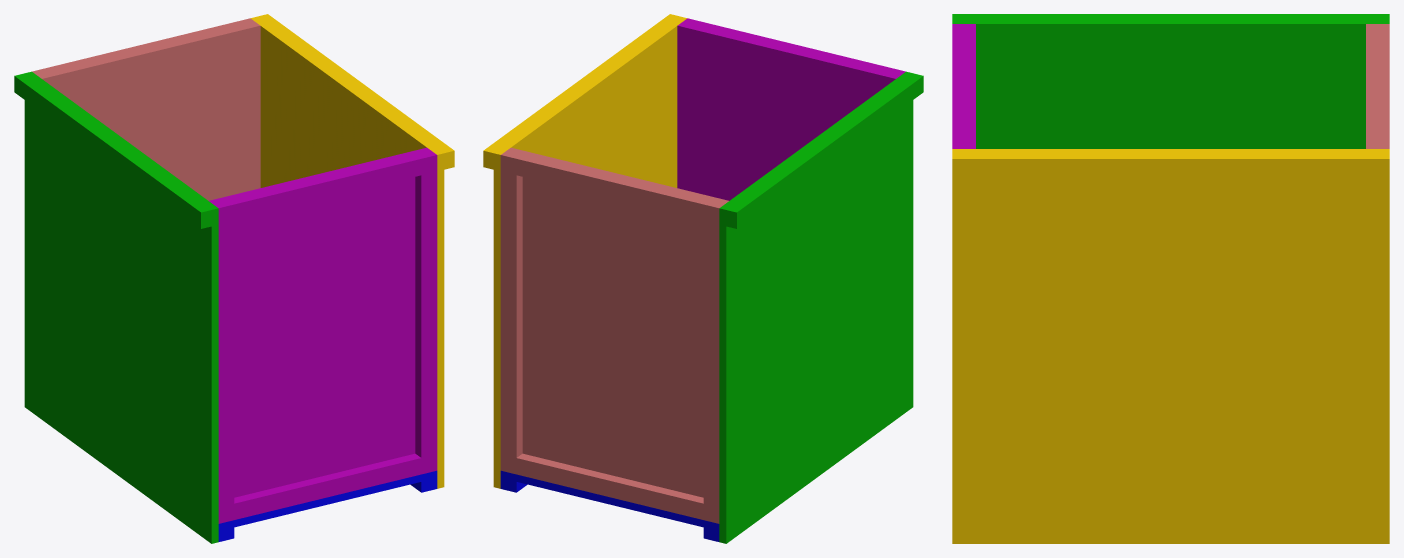
File: result.glb
3 views of the same model, side by side, from view 1: azimuth 30°, elevation 25°; view 2: azimuth 150°, elevation 25°; view 3: azimuth 270°, elevation 25° (orthographic). The views are drawn at different scales.
Visible parts, largest first — view 1: c7c51beb-bb19-4a8b-8a19-5e7543e07f08__Box_6, 0182c5ac-4b3b-49a0-9fc3-897172586b34__Box_3, 3abac683-bb2a-4d7c-9a15-d0d0a06646f1__undefined, b1e6297b-e7c0-4325-936a-9a02f71ed40f__undefined, b562b8de-653b-44a5-a18d-72877206f7dd__undefined, b8709581-1edd-4548-98f8-2fc6ff73d1a8__Box_4, cfb1b3d3-5807-45af-8db8-994b17367c4c__Box_7, 9b0788de-2b6d-4323-b09f-291f59e4da85__undefined, e6c07497-e2f5-4c88-ac0f-7a44c3719279__Box_5, 6d172d57-87cb-4e6f-9ae4-bf5996953d62__undefined, f3b661d5-2d97-45d6-a091-397c79c1c997__Box, 2fecdb35-be78-4228-a012-a9fa005ccd25__undefined; view 2: c7c51beb-bb19-4a8b-8a19-5e7543e07f08__Box_6, 3abac683-bb2a-4d7c-9a15-d0d0a06646f1__undefined, 0182c5ac-4b3b-49a0-9fc3-897172586b34__Box_3, b1e6297b-e7c0-4325-936a-9a02f71ed40f__undefined, c8940e5e-65a2-4fff-83ae-01cc5dae1033__undefined, 5195c63c-219f-4998-a25b-39bb8c61c99f__undefined, cfb1b3d3-5807-45af-8db8-994b17367c4c__Box_7, 2fecdb35-be78-4228-a012-a9fa005ccd25__undefined, b474aa49-ceae-47df-8a9a-69f96dbda966__undefined, 6d172d57-87cb-4e6f-9ae4-bf5996953d62__undefined, f3b661d5-2d97-45d6-a091-397c79c1c997__Box, 9b0788de-2b6d-4323-b09f-291f59e4da85__undefined; view 3: b1e6297b-e7c0-4325-936a-9a02f71ed40f__undefined, c7c51beb-bb19-4a8b-8a19-5e7543e07f08__Box_6, 6d172d57-87cb-4e6f-9ae4-bf5996953d62__undefined, cfb1b3d3-5807-45af-8db8-994b17367c4c__Box_7, 9b0788de-2b6d-4323-b09f-291f59e4da85__undefined, 2fecdb35-be78-4228-a012-a9fa005ccd25__undefined, 0182c5ac-4b3b-49a0-9fc3-897172586b34__Box_3, 3abac683-bb2a-4d7c-9a15-d0d0a06646f1__undefined.
Boxes of the visible parts, <box> form: c7c51beb-bb19-4a8b-8a19-5e7543e07f08__Box_6: <box>24,71,218,543</box>; 0182c5ac-4b3b-49a0-9fc3-897172586b34__Box_3: <box>209,147,430,497</box>; 3abac683-bb2a-4d7c-9a15-d0d0a06646f1__undefined: <box>38,22,260,200</box>; b1e6297b-e7c0-4325-936a-9a02f71ed40f__undefined: <box>250,16,444,488</box>; b562b8de-653b-44a5-a18d-72877206f7dd__undefined: <box>415,150,437,474</box>; b8709581-1edd-4548-98f8-2fc6ff73d1a8__Box_4: <box>213,200,234,523</box>; cfb1b3d3-5807-45af-8db8-994b17367c4c__Box_7: <box>14,73,211,228</box>; 9b0788de-2b6d-4323-b09f-291f59e4da85__undefined: <box>228,154,421,220</box>; e6c07497-e2f5-4c88-ac0f-7a44c3719279__Box_5: <box>234,453,421,519</box>; 6d172d57-87cb-4e6f-9ae4-bf5996953d62__undefined: <box>257,14,454,169</box>; f3b661d5-2d97-45d6-a091-397c79c1c997__Box: <box>218,470,437,530</box>; 2fecdb35-be78-4228-a012-a9fa005ccd25__undefined: <box>48,22,240,71</box>; c7c51beb-bb19-4a8b-8a19-5e7543e07f08__Box_6: <box>719,71,913,543</box>; 3abac683-bb2a-4d7c-9a15-d0d0a06646f1__undefined: <box>507,147,728,497</box>; 0182c5ac-4b3b-49a0-9fc3-897172586b34__Box_3: <box>677,22,899,200</box>; b1e6297b-e7c0-4325-936a-9a02f71ed40f__undefined: <box>493,16,687,488</box>; c8940e5e-65a2-4fff-83ae-01cc5dae1033__undefined: <box>500,150,522,474</box>; 5195c63c-219f-4998-a25b-39bb8c61c99f__undefined: <box>703,200,724,523</box>; cfb1b3d3-5807-45af-8db8-994b17367c4c__Box_7: <box>726,73,923,228</box>; 2fecdb35-be78-4228-a012-a9fa005ccd25__undefined: <box>516,154,709,220</box>; b474aa49-ceae-47df-8a9a-69f96dbda966__undefined: <box>516,453,703,519</box>; 6d172d57-87cb-4e6f-9ae4-bf5996953d62__undefined: <box>483,14,680,169</box>; f3b661d5-2d97-45d6-a091-397c79c1c997__Box: <box>500,470,719,530</box>; 9b0788de-2b6d-4323-b09f-291f59e4da85__undefined: <box>697,22,889,71</box>; b1e6297b-e7c0-4325-936a-9a02f71ed40f__undefined: <box>952,149,1389,543</box>; c7c51beb-bb19-4a8b-8a19-5e7543e07f08__Box_6: <box>952,20,1389,148</box>; 6d172d57-87cb-4e6f-9ae4-bf5996953d62__undefined: <box>952,153,1389,178</box>; cfb1b3d3-5807-45af-8db8-994b17367c4c__Box_7: <box>952,14,1389,19</box>; 9b0788de-2b6d-4323-b09f-291f59e4da85__undefined: <box>952,33,966,139</box>; 2fecdb35-be78-4228-a012-a9fa005ccd25__undefined: <box>1375,33,1389,139</box>; 0182c5ac-4b3b-49a0-9fc3-897172586b34__Box_3: <box>966,24,975,148</box>; 3abac683-bb2a-4d7c-9a15-d0d0a06646f1__undefined: <box>1366,24,1375,148</box>.
Bounding box in the file's own units: 580 × 730 × 740.
